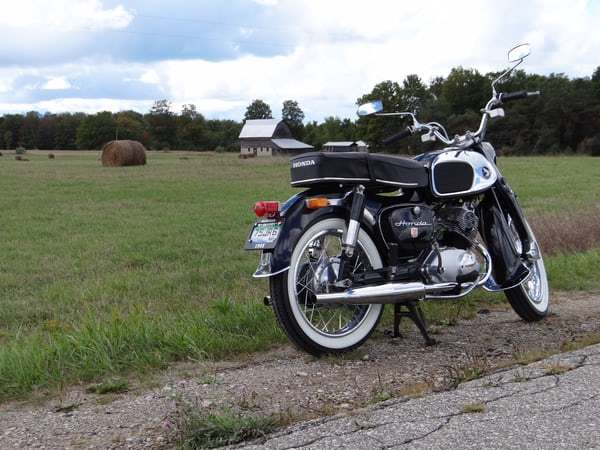27_label: (210, 39, 582, 358)
